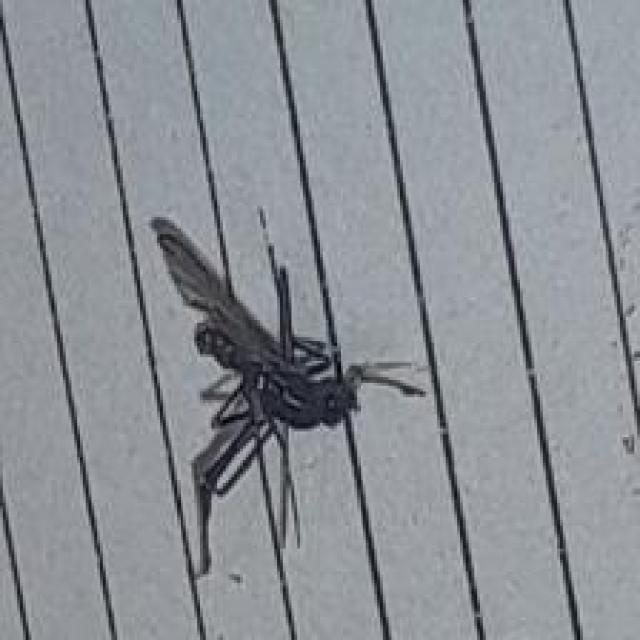Aedes albopictus: (148, 205, 428, 640)
